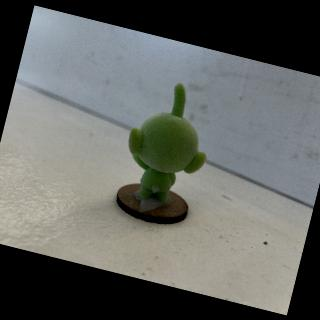teletubby: (128, 83, 206, 202)
